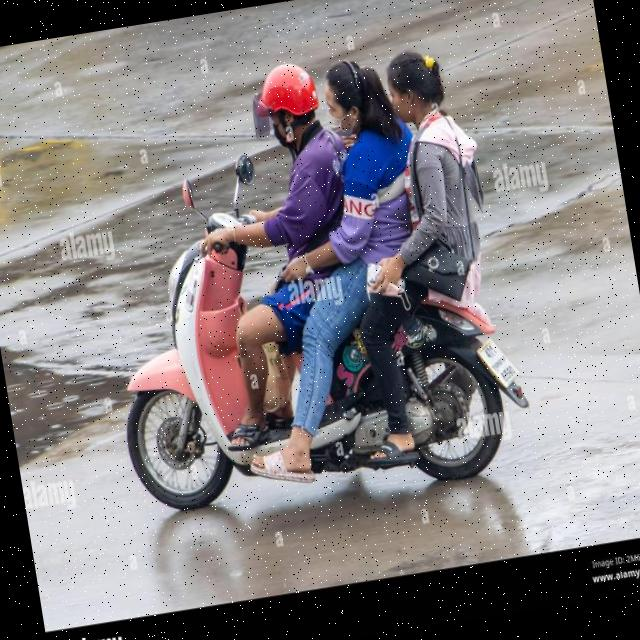Triple riding: (243, 28, 508, 359)
